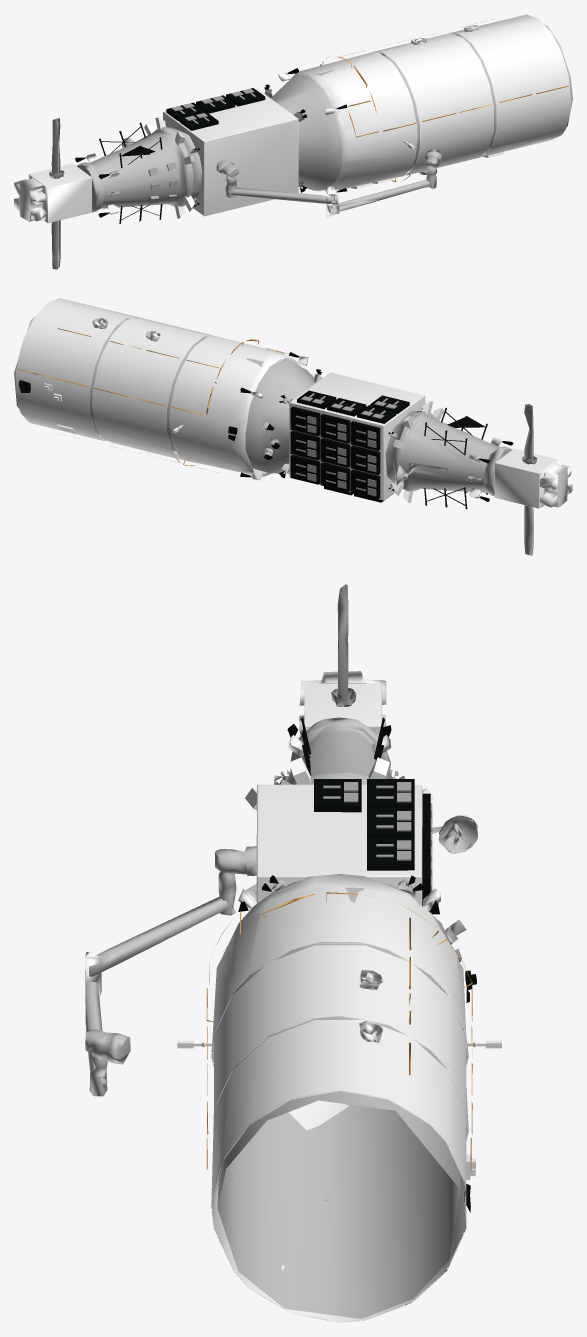
File: tiangong-wentian.glb
The picture shows the model from 3 angles, top to bottom: view 1: azimuth 30°, elevation 25°; view 2: azimuth 150°, elevation 25°; view 3: azimuth 270°, elevation 25°; orthographic projection. The views are drawn at different scales.
Parts seen in each view (by area): view 1: wentian; view 2: wentian; view 3: wentian.
Boxes of the visible parts, <box> form: wentian: <box>14,14,572,269</box>; wentian: <box>14,298,572,555</box>; wentian: <box>85,584,501,1322</box>.
Size of the model in its own units: 18.16 by 5 by 6.33.
Materials: 1 (1 with a texture image).
